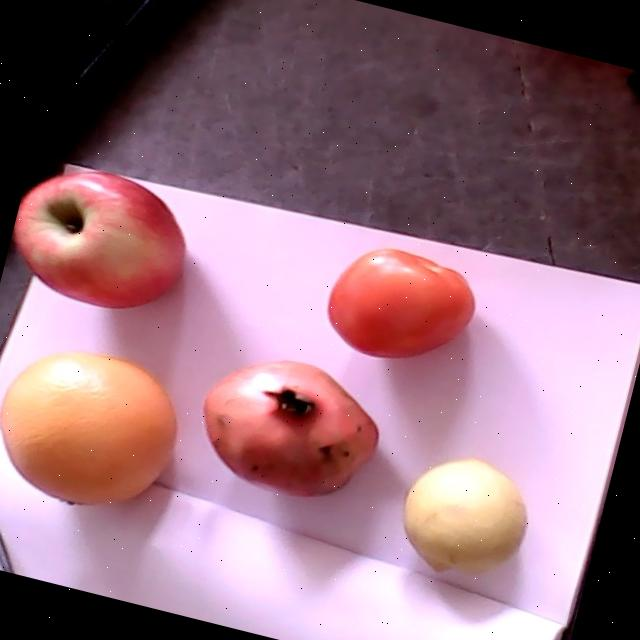apple: (14, 171, 183, 307)
lemon: (403, 456, 527, 572)
orange: (0, 351, 176, 504)
pomegranate: (204, 360, 377, 495)
tomato: (328, 246, 472, 358)
